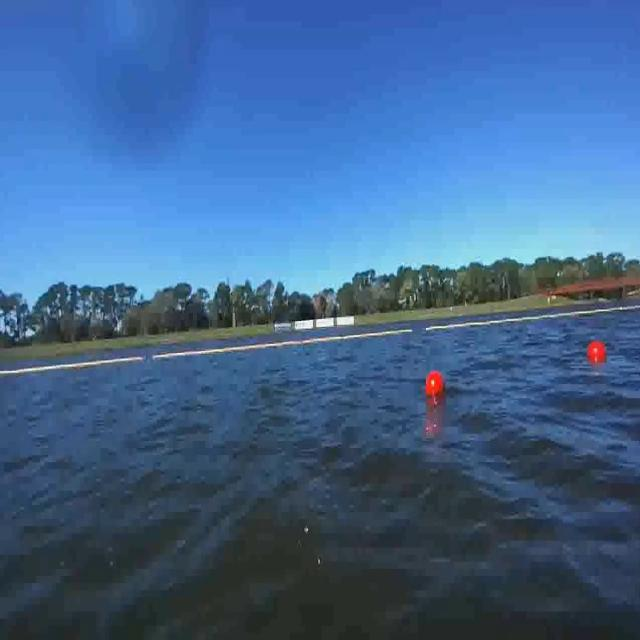red-buoy: (426, 369, 444, 397), (585, 341, 604, 364)
